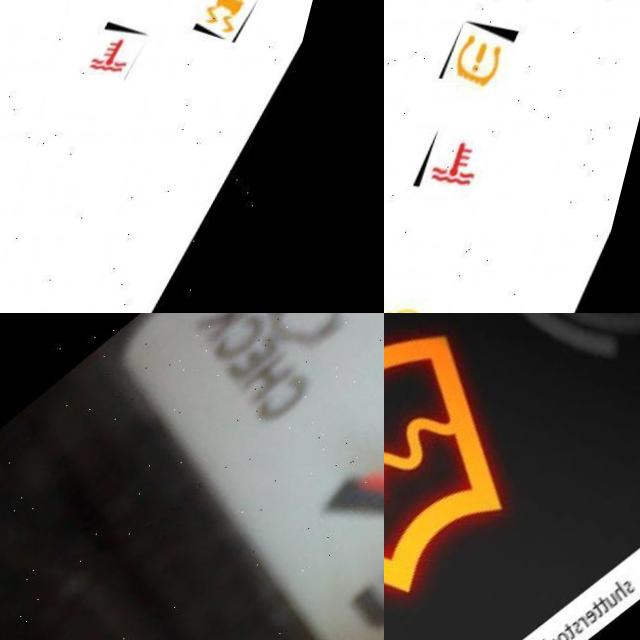Washer Fluid: (384, 317, 555, 590)
